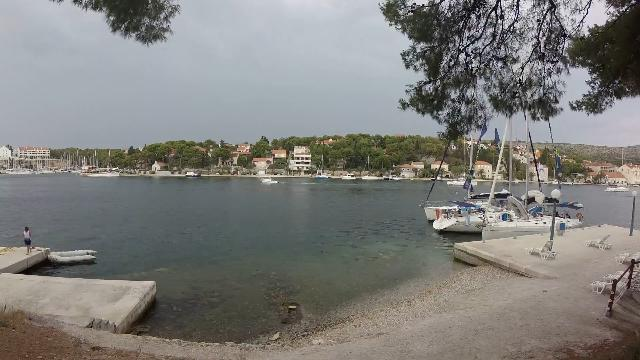speedboat: (258, 176, 284, 186)
